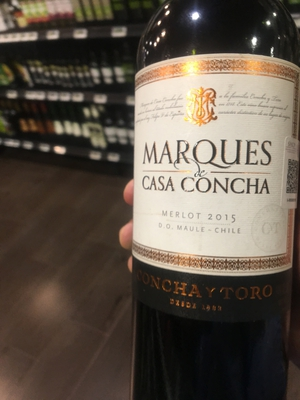marques de casa concha merlot: (121, 21, 300, 374)
